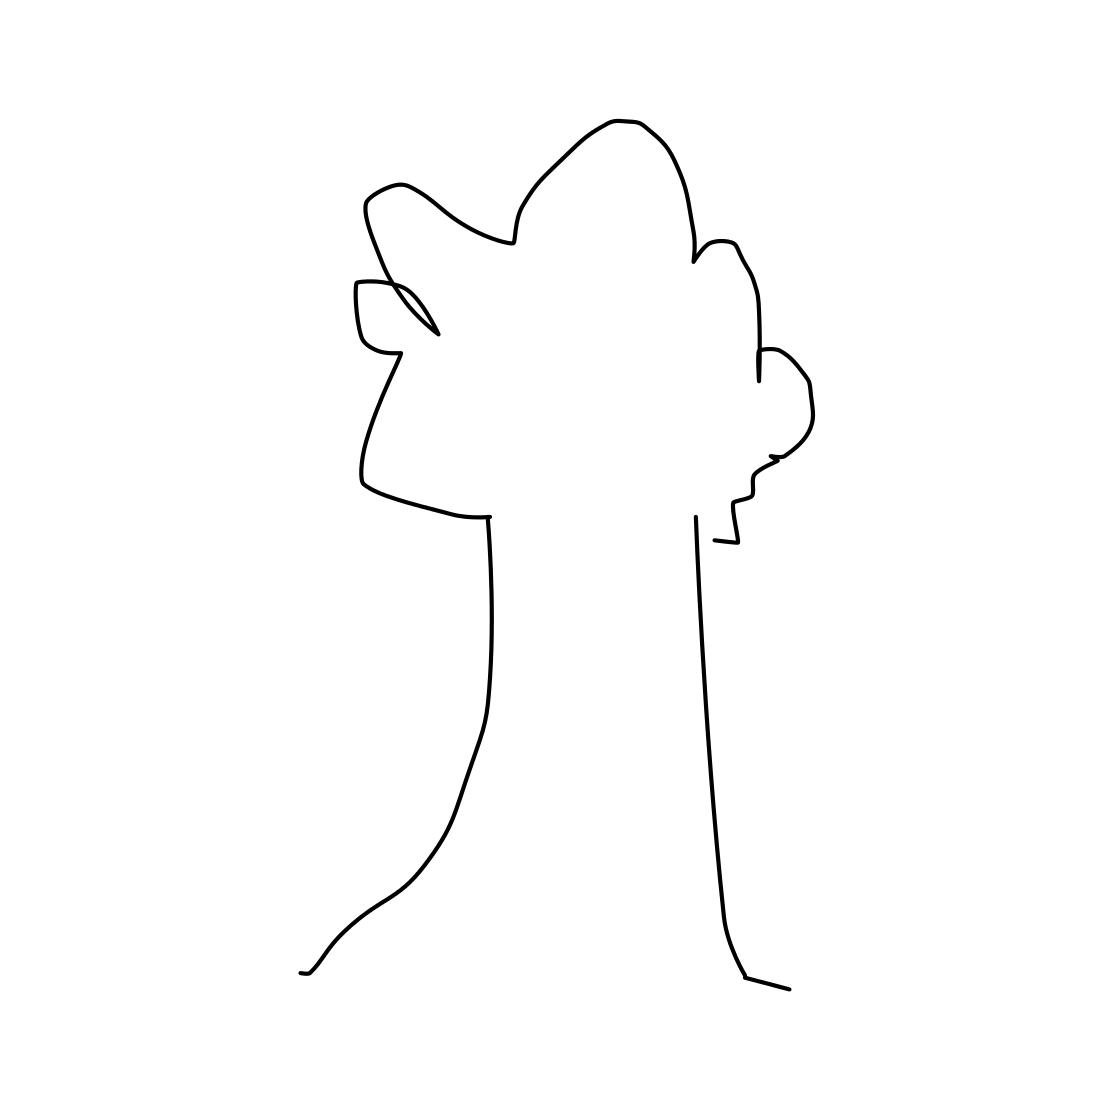Tree: (266, 67, 876, 1061)
